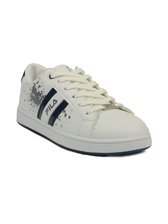shoes: (15, 63, 155, 157)
